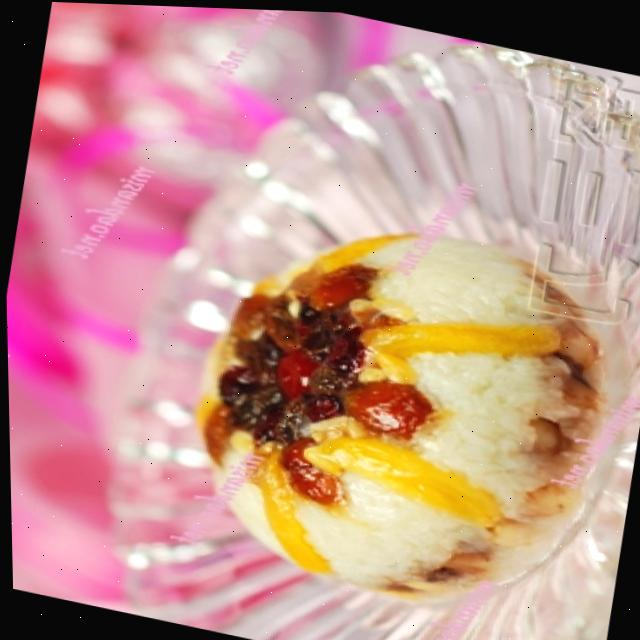米饭主食: (146, 156, 635, 637)
